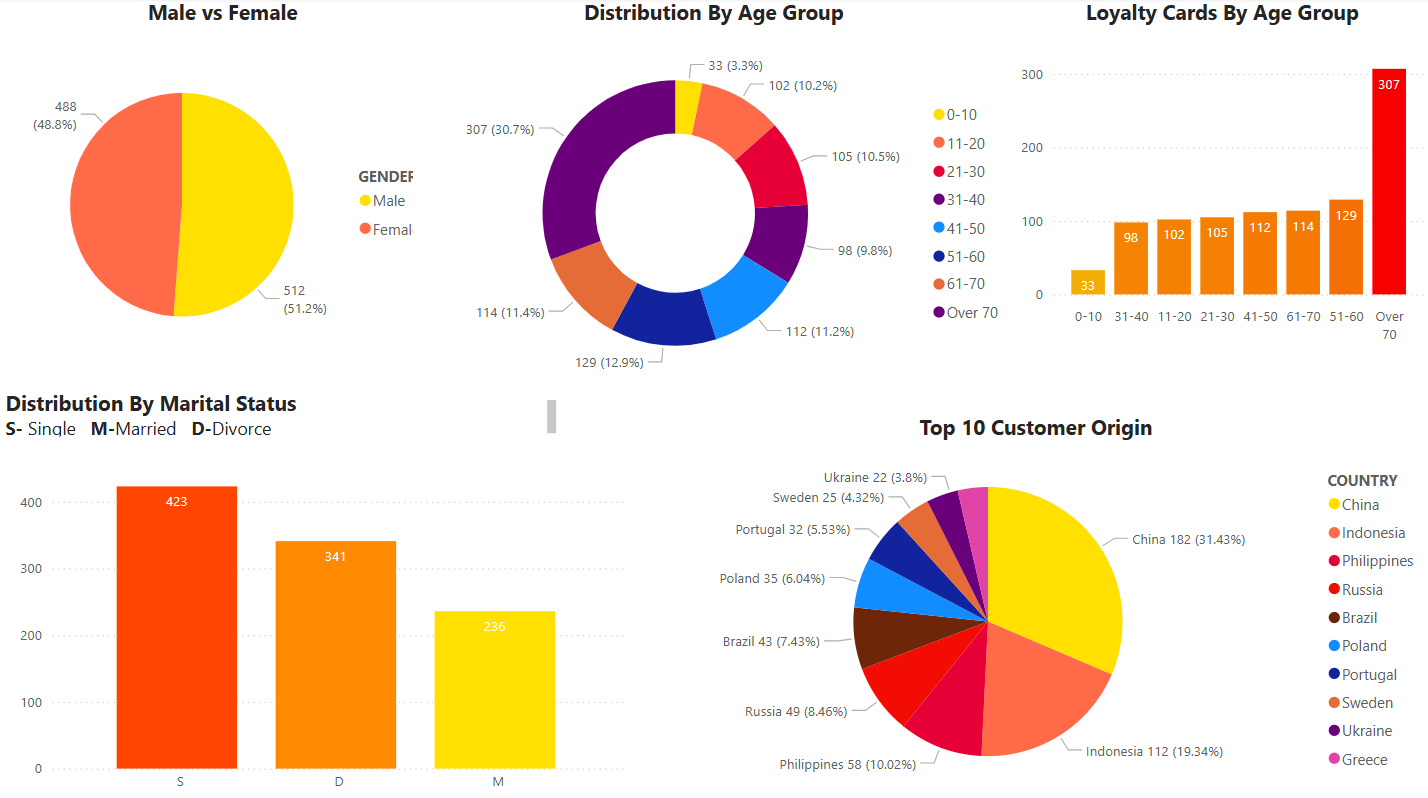

Layout of this report page (visuals, bound fields, positions):
{"tool":"powerbi","page":{"name":"Customer Demographics","canvas":[1280,720],"ordinal":2},"visuals":[{"type":"pieChart","title":"Male vs Female","fields":{"Category":["Customer_Campaign_Sales.GENDER"],"Y":["Count(Customer_Campaign_Sales.GENDER)"]},"box":[0,0,385.7,291.4],"z":0},{"type":"clusteredColumnChart","fields":{"Category":["Customer_Campaign_Sales.MARITAL_STATUS"],"Y":["CountNonNull(Customer_Campaign_Sales.MARITAL_STATUS)"]},"box":[12.5,397.5,535,322.5],"z":1000},{"type":"textbox","box":[0,345,502.5,52.5],"z":2000},{"type":"donutChart","title":"Distribution By Age Group","fields":{"Category":["Customer_Campaign_Sales.Age Category"],"Y":["CountNonNull(Customer_Campaign_Sales.Age Category)"]},"box":[402.9,0,538.6,360],"z":3000},{"type":"clusteredColumnChart","title":"Loyalty Cards","fields":{"Category":["Customer_Campaign_Sales.LOYALTY_CARD_STATUS"],"Y":["CountNonNull(Customer_Campaign_Sales.LOYALTY_CARD_STATUS)"]},"box":[967.1,15.7,312.9,301.4],"z":4000},{"type":"pieChart","fields":{"Category":["Customer_Campaign_Sales.COUNTRY"],"Y":["CountNonNull(Customer_Campaign_Sales.Campaign Customer)"]},"box":[530,371.4,725.7,348.6],"z":5000}]}

Visuals, with their boxes in screenshot pixels (x1, y1, x2, y2), scaled from the page's 1280x720 canvas onto the 1428x798 screenshot:
"Male vs Female" pieChart: box=[0, 0, 430, 323]
clusteredColumnChart - Customer_Campaign_Sales.MARITAL_STATUS x CountNonNull(Customer_Campaign_Sales.MARITAL_STATUS): box=[14, 441, 611, 797]
textbox: box=[0, 382, 561, 441]
"Distribution By Age Group" donutChart: box=[449, 0, 1050, 399]
"Loyalty Cards" clusteredColumnChart: box=[1079, 17, 1427, 351]
pieChart - Customer_Campaign_Sales.COUNTRY x CountNonNull(Customer_Campaign_Sales.Campaign Customer): box=[591, 412, 1401, 797]
